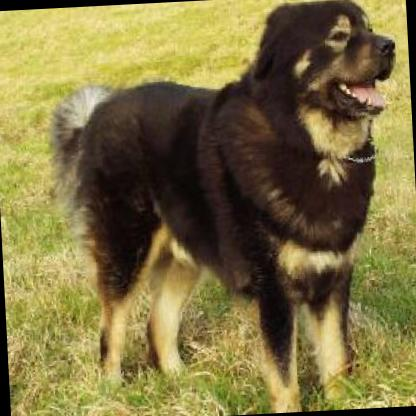Tibetan_mastiff: (32, 0, 415, 416)
